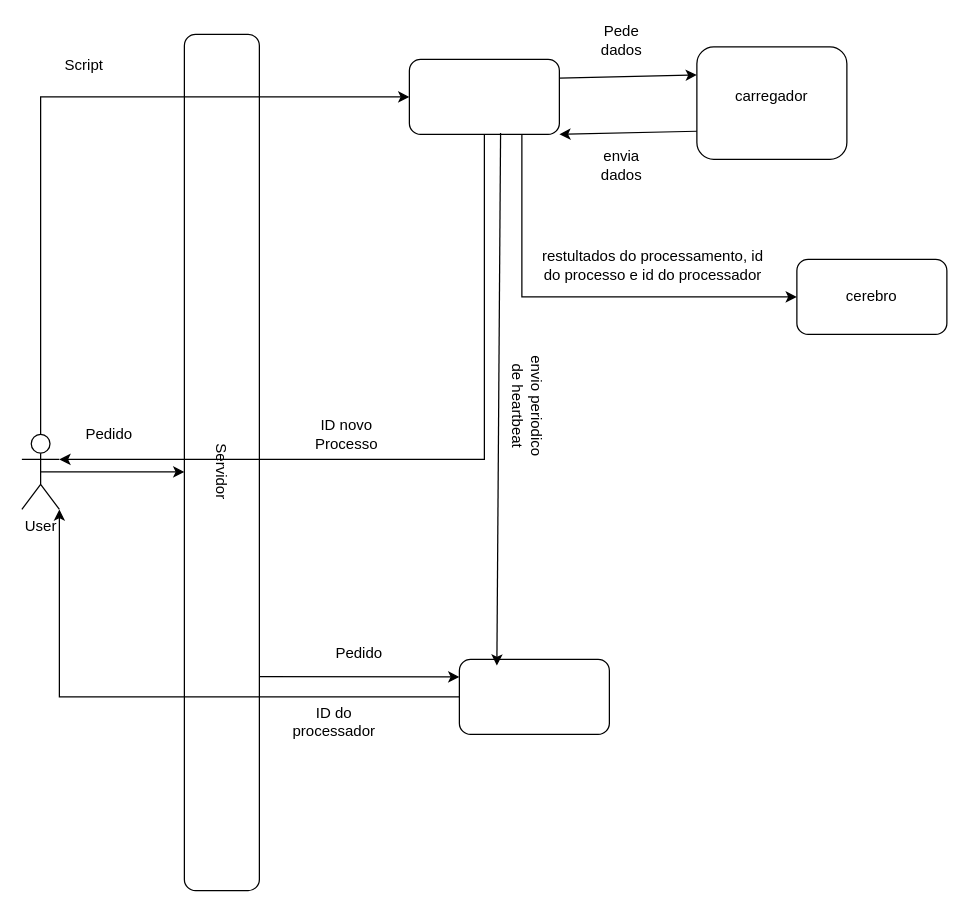
Some shapes in this 969 by 913 pixel diagram are drawn without their labels. The centre of each missing label's shape, as x and y in pixels:
"Estabilizador" belongs at [533,696].
"Processador" belongs at [483,96].
